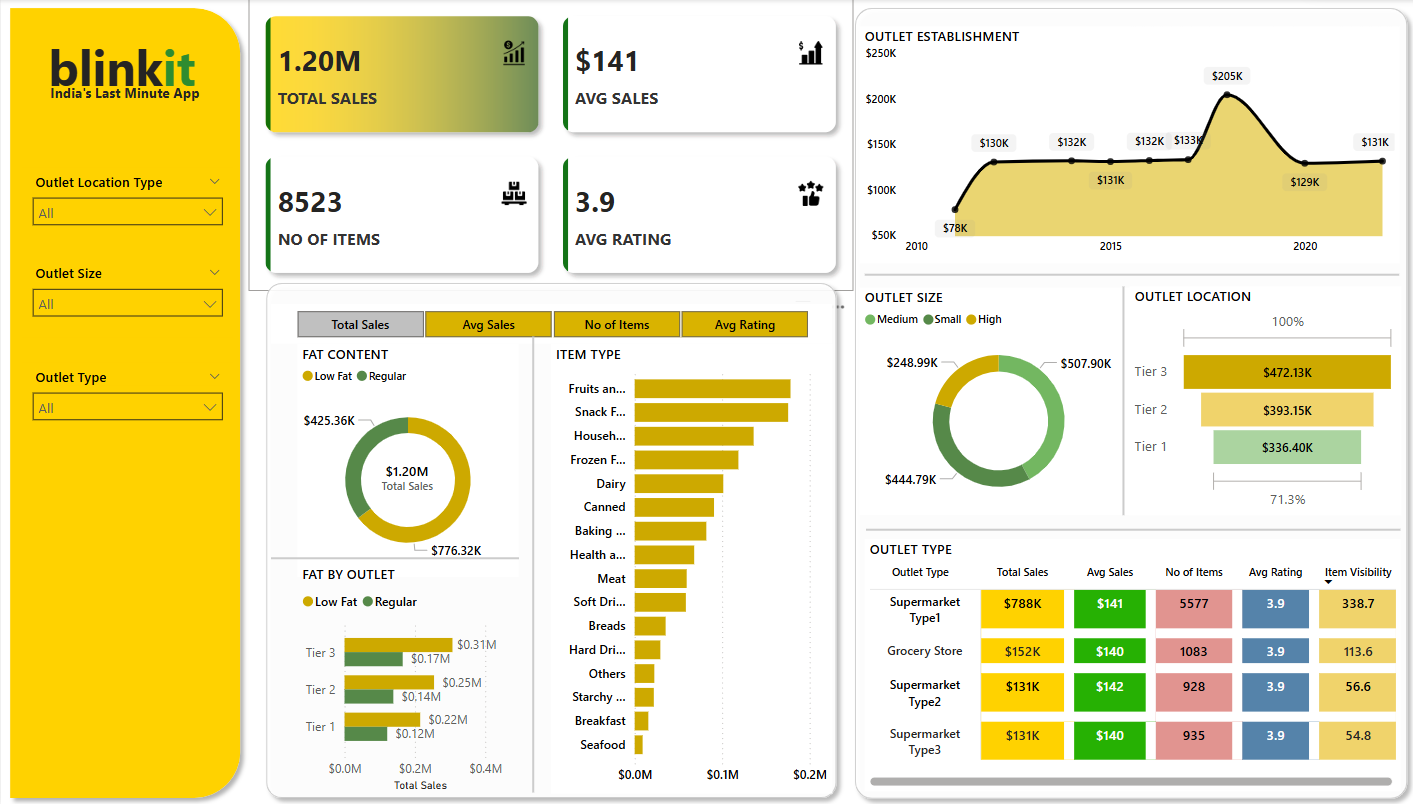

Layout of this report page (visuals, bound fields, positions):
{"tool":"powerbi","page":{"name":"Page 1","canvas":[1400,800],"ordinal":0},"visuals":[{"type":"shape","box":[0,0,245.8,799.6],"z":0},{"type":"textbox","box":[42,29.6,166.4,99.6],"z":1000},{"type":"textbox","box":[37.3,79.3,171.1,31.1],"z":2000},{"type":"cardVisual","fields":{"Data":["BlinkIT Grocery Data.Total Sales","BlinkIT Grocery Data.Avg Sales","BlinkIT Grocery Data.No of Items","BlinkIT Grocery Data.Avg Rating"]},"box":[245.4,0,598.5,289],"z":3000},{"type":"shape","box":[253.6,272.7,582.1,527.6],"z":4000},{"type":"donutChart","title":"FAT CONTENT","fields":{"Y":["BlinkIT Grocery Data.Total Sales"],"Category":["BlinkIT Grocery Data.Item Fat Content"]},"box":[293.1,340.8,219.5,230.4],"z":5000},{"type":"slicer","fields":{"Values":["Metrix.Metrix"]},"box":[266.7,301.4,555.5,39.5],"z":6000},{"type":"cardVisual","fields":{"Data":["BlinkIT Grocery Data.Total Sales"]},"box":[351.9,440.3,99.4,58.4],"z":7000},{"type":"shape","box":[267.2,548.1,245.4,10.9],"z":8000},{"type":"shape","box":[501.8,334.5,48.9,451.3],"z":9000},{"type":"clusteredBarChart","title":"FAT BY OUTLET","fields":{"Y":["BlinkIT Grocery Data.Total Sales"],"Category":["BlinkIT Grocery Data.Outlet Location Type"],"Series":["BlinkIT Grocery Data.Item Fat Content"]},"box":[293.1,559,219.5,230.4],"z":10000},{"type":"barChart","title":"ITEM TYPE","fields":{"Y":["BlinkIT Grocery Data.Total Sales"],"Category":["BlinkIT Grocery Data.Item Type"]},"box":[544,340.8,278.1,444.4],"z":11000},{"type":"shape","box":[835.7,0,564.4,800.3],"z":12000},{"type":"lineChart","title":"OUTLET ESTABLISHMENT","fields":{"Category":["BlinkIT Grocery Data.Outlet Establishment Year"],"Y":["BlinkIT Grocery Data.Total Sales"]},"box":[849.4,27.3,534.4,234.5],"z":13000},{"type":"donutChart","title":"OUTLET SIZE","fields":{"Y":["BlinkIT Grocery Data.Total Sales"],"Category":["BlinkIT Grocery Data.Outlet Size"]},"box":[849.4,286.3,275.4,225],"z":14000},{"type":"shape","box":[854.8,259,529,28.6],"z":15000},{"type":"shape","box":[1104.3,284.9,12.3,226.3],"z":16000},{"type":"shape","box":[856.2,511.3,529,28.6],"z":17000},{"type":"pivotTable","title":"OUTLET TYPE","fields":{"Rows":["BlinkIT Grocery Data.Outlet Type"],"Values":["BlinkIT Grocery Data.Total Sales","BlinkIT Grocery Data.Avg Sales","BlinkIT Grocery Data.No of Items","BlinkIT Grocery Data.Avg Rating","Sum(BlinkIT Grocery Data.Item Visibility)"]},"box":[854.8,534.4,530.3,249.5],"z":18000},{"type":"slicer","fields":{"Values":["BlinkIT Grocery Data.Outlet Location Type"]},"box":[20.5,167.3,208.3,77.3],"z":19000},{"type":"slicer","fields":{"Values":["BlinkIT Grocery Data.Outlet Type"]},"box":[20.5,359.8,208.3,77.3],"z":20000},{"type":"slicer","fields":{"Values":["BlinkIT Grocery Data.Outlet Size"]},"box":[20.5,257.2,208.3,77.3],"z":21000},{"type":"funnel","title":"OUTLET LOCATION","fields":{"Category":["BlinkIT Grocery Data.Outlet Location Type"],"Y":["BlinkIT Grocery Data.Total Sales"]},"box":[1116.6,284.9,268.6,226.3],"z":22000}]}

Visuals, with their boxes in screenshot pixels (x1, y1, x2, y2), scaled from the page's 1400x800 canvas onto the 1413x804 screenshot:
shape: x1=0 y1=0 x2=248 y2=803
textbox: x1=42 y1=30 x2=210 y2=130
textbox: x1=38 y1=80 x2=210 y2=111
cardVisual - BlinkIT Grocery Data.Total Sales x BlinkIT Grocery Data.Avg Sales: x1=248 y1=0 x2=852 y2=290
shape: x1=256 y1=274 x2=843 y2=803
"FAT CONTENT" donutChart: x1=296 y1=343 x2=517 y2=574
slicer - Metrix.Metrix: x1=269 y1=303 x2=830 y2=343
cardVisual - BlinkIT Grocery Data.Total Sales: x1=355 y1=443 x2=455 y2=501
shape: x1=270 y1=551 x2=517 y2=562
shape: x1=506 y1=336 x2=556 y2=790
"FAT BY OUTLET" clusteredBarChart: x1=296 y1=562 x2=517 y2=793
"ITEM TYPE" barChart: x1=549 y1=343 x2=830 y2=789
shape: x1=843 y1=0 x2=1412 y2=803
"OUTLET ESTABLISHMENT" lineChart: x1=857 y1=27 x2=1397 y2=263
"OUTLET SIZE" donutChart: x1=857 y1=288 x2=1135 y2=514
shape: x1=863 y1=260 x2=1397 y2=289
shape: x1=1115 y1=286 x2=1127 y2=514
shape: x1=864 y1=514 x2=1398 y2=543
"OUTLET TYPE" pivotTable: x1=863 y1=537 x2=1398 y2=788
slicer - BlinkIT Grocery Data.Outlet Location Type: x1=21 y1=168 x2=231 y2=246
slicer - BlinkIT Grocery Data.Outlet Type: x1=21 y1=362 x2=231 y2=439
slicer - BlinkIT Grocery Data.Outlet Size: x1=21 y1=258 x2=231 y2=336
"OUTLET LOCATION" funnel: x1=1127 y1=286 x2=1398 y2=514
